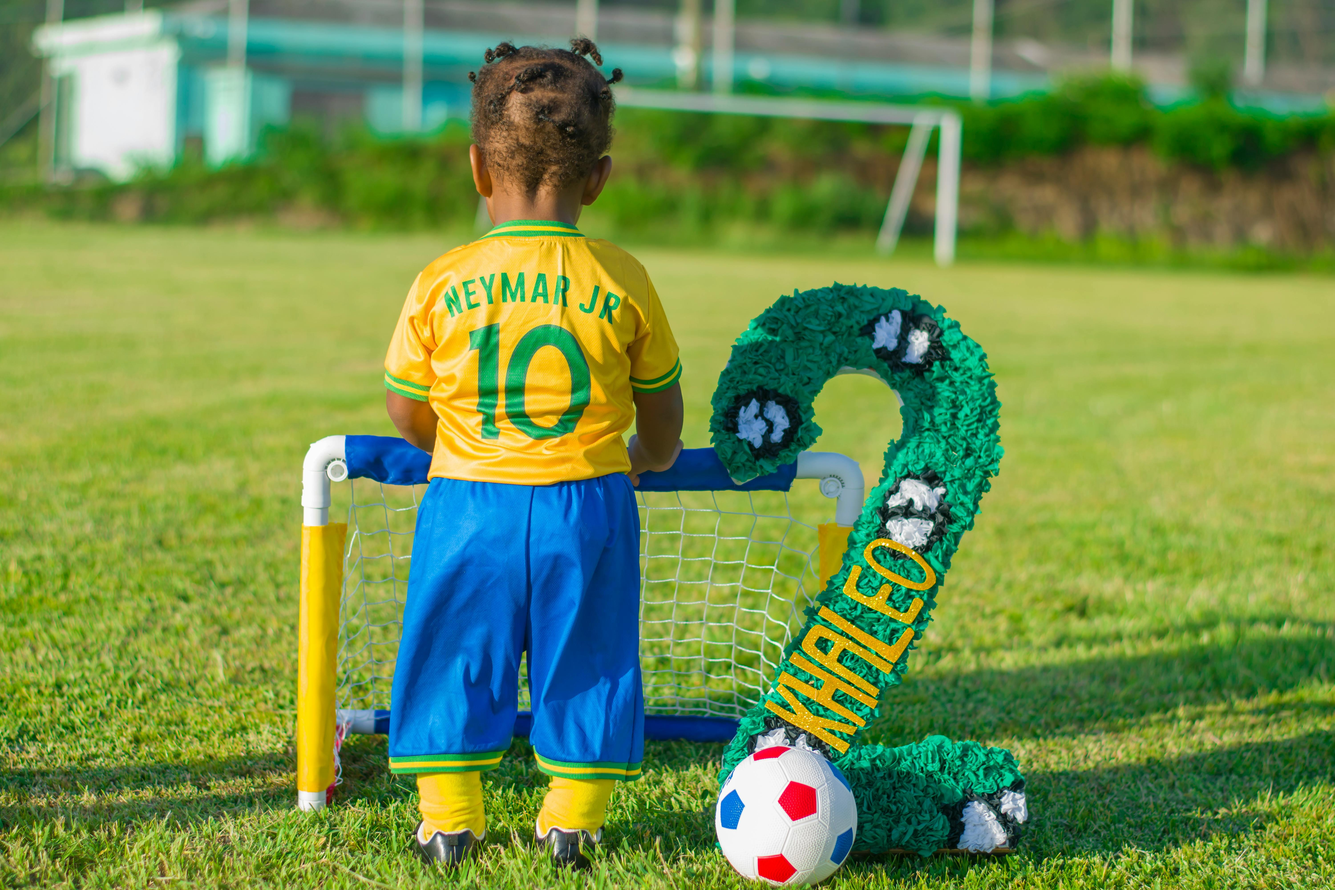Human: (388, 25, 706, 812)
